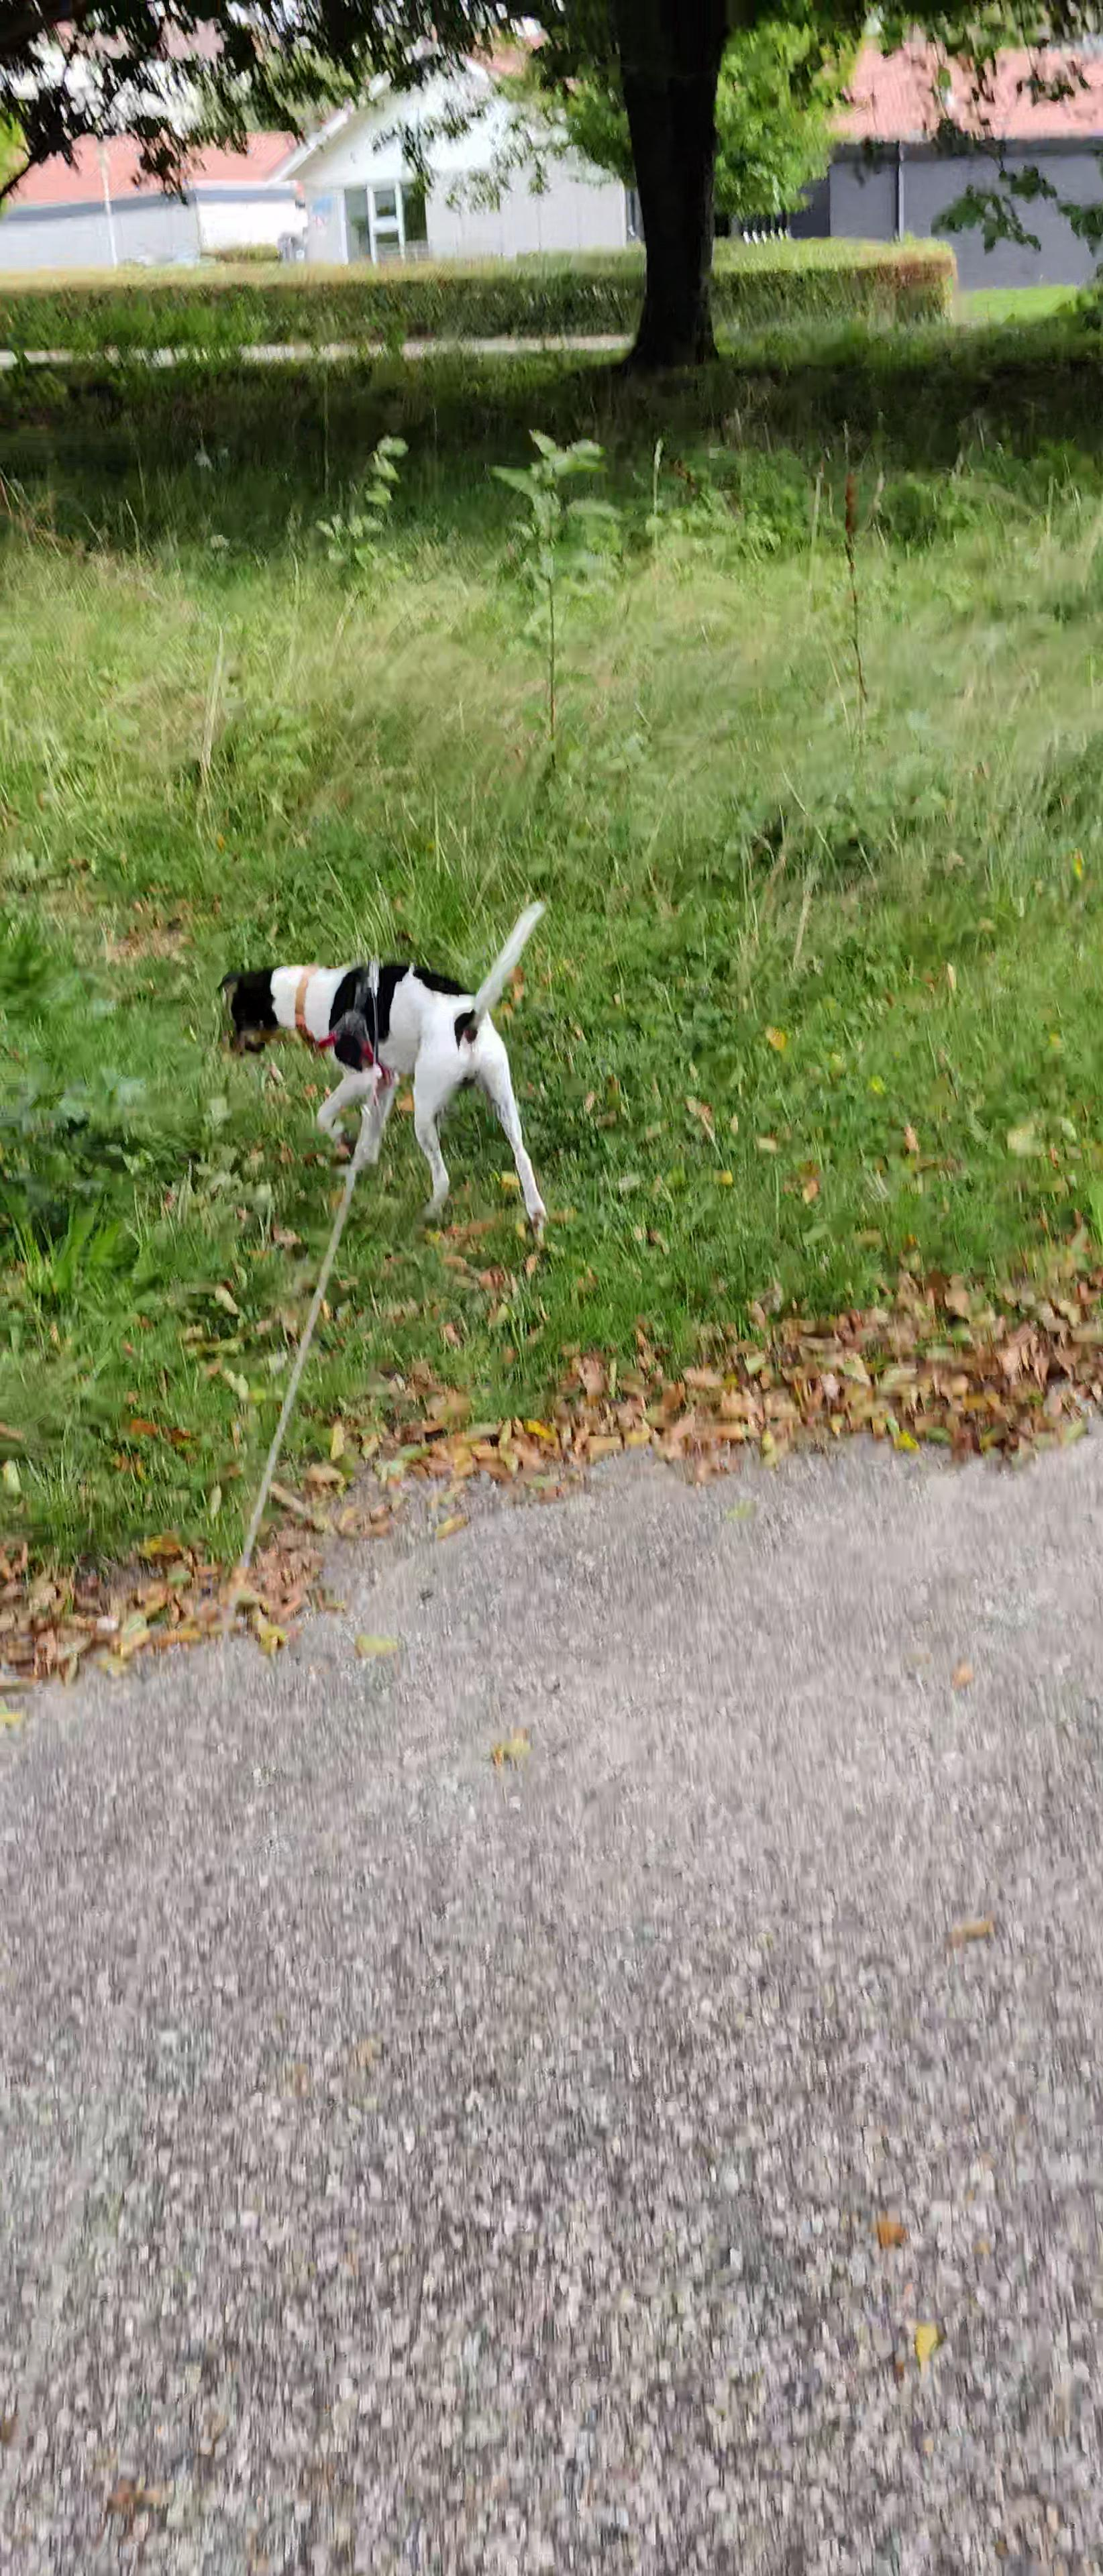Dog: (205, 877, 570, 1250)
